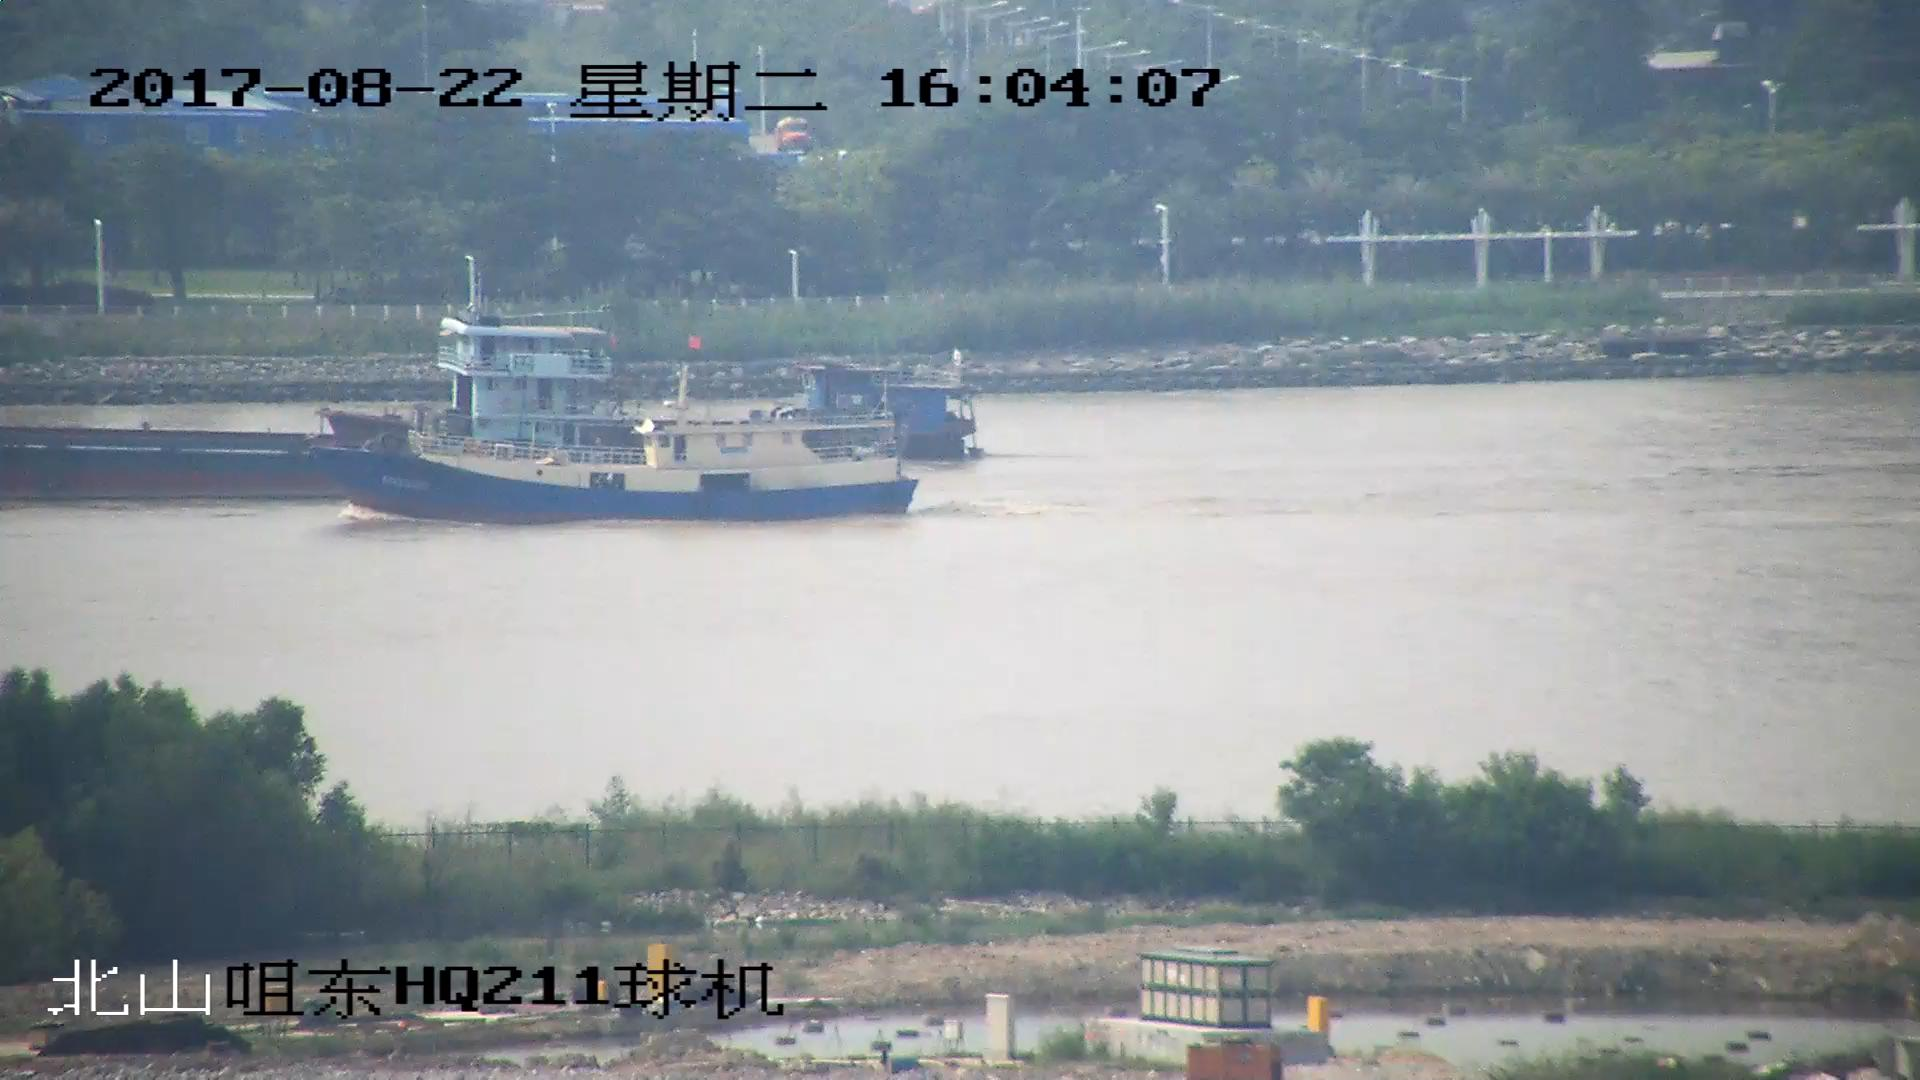bulk cargo carrier: (1, 311, 631, 497)
fishing boat: (312, 339, 919, 525)
